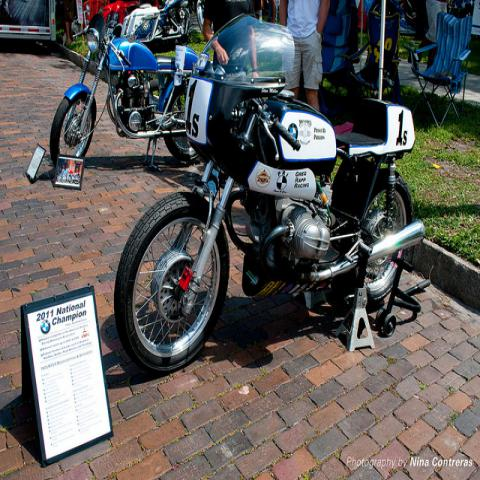motorcycle: (112, 12, 432, 372), (49, 12, 200, 172)
